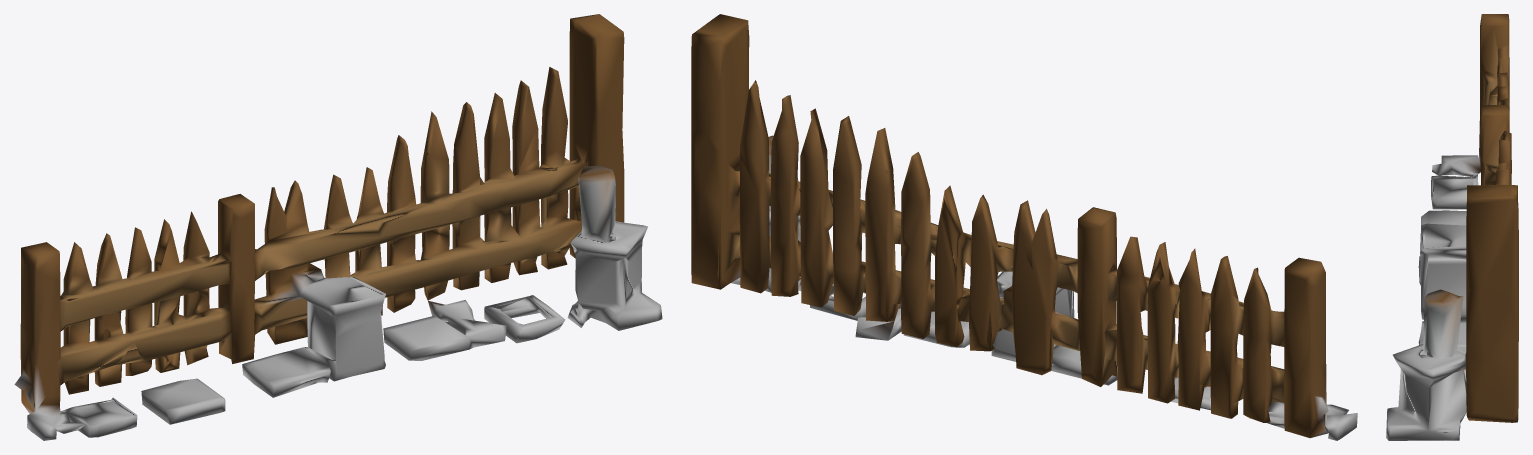
The model's file is gen3d-avalanche-fence-lod0.glb.
3 views of the same model, side by side, from view 1: azimuth 30°, elevation 25°; view 2: azimuth 150°, elevation 25°; view 3: azimuth 270°, elevation 25° (orthographic). The views are drawn at different scales.
Visible parts, largest first — view 1: part_0; view 2: part_0; view 3: part_0.
Part boxes in pixels (x1,y1,x2,y2): part_0: (14, 14, 662, 440); part_0: (691, 14, 1357, 440); part_0: (1386, 14, 1518, 440).
Bounding box in the file's own units: 2.4 × 0.9996 × 0.4839.
